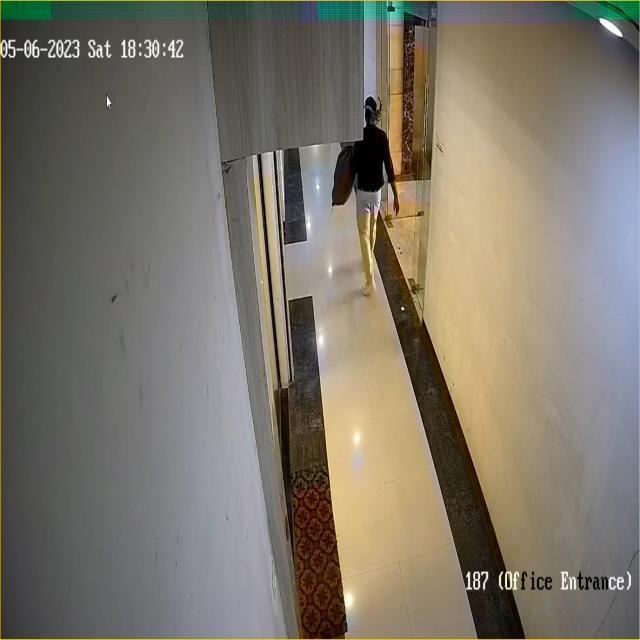gunny_bag: (330, 148, 358, 208)
